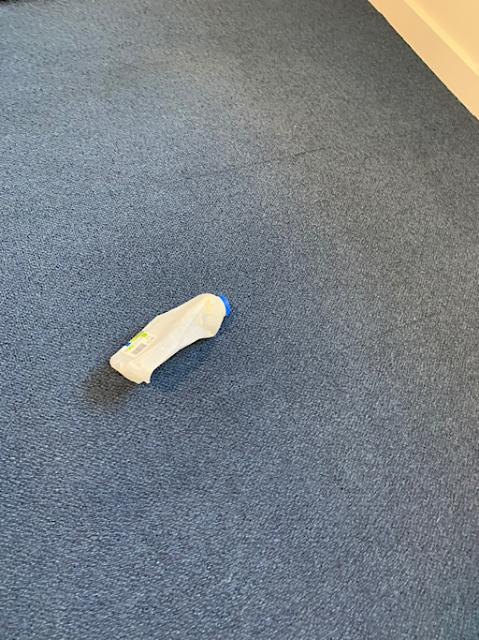plastic: (109, 292, 229, 381)
